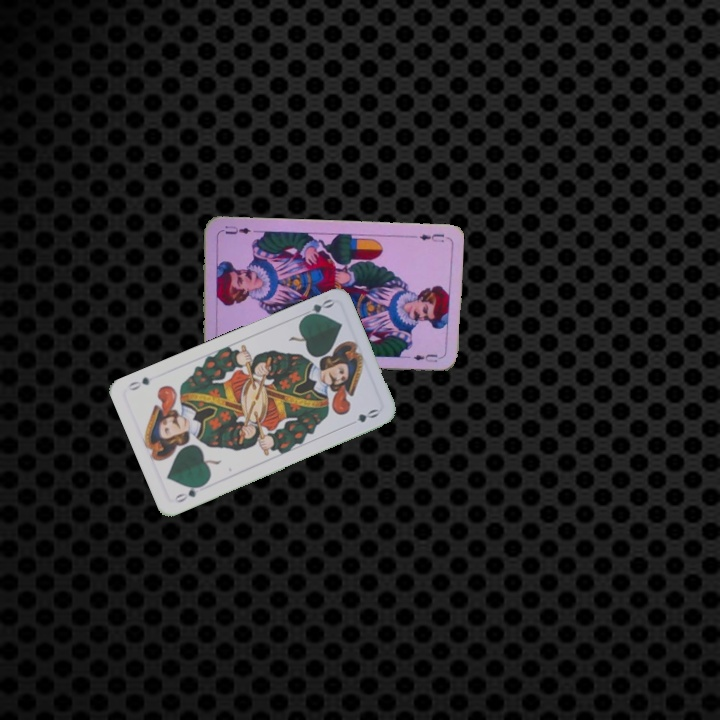EU: (415, 230, 446, 245)
GO: (297, 295, 336, 322), (171, 480, 207, 505)
